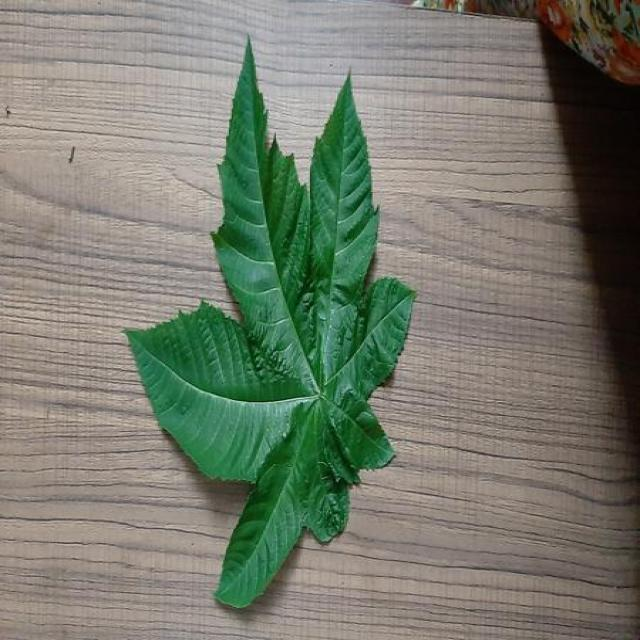seedling blight: (127, 41, 415, 607)
